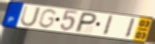5: (59, 9, 79, 33)
G: (37, 8, 58, 29)
I: (101, 15, 114, 37), (123, 18, 136, 40)
P: (73, 12, 99, 34)
U: (19, 5, 42, 28)
